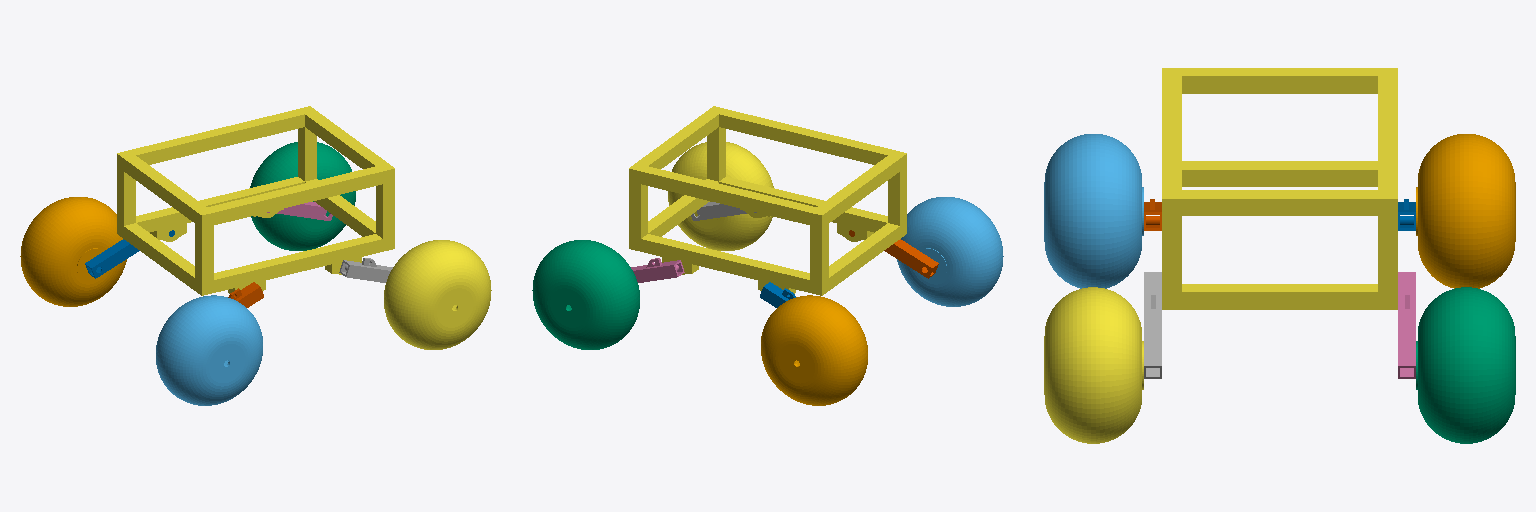
The robot description file, URDF, robot "TARS_V2":
<?xml version="1.0"?>
<!-- created with Phobos 0.8 -->
  <robot name="TARS_V2">

    <link name="link_camera_back">
    </link>

    <link name="link_camera_depth">
    </link>

    <link name="link_camera_front">
    </link>

    <link name="link_chassis">
      <inertial>
        <origin xyz="0 0 0.19608" rpy="0 0 0"/>
        <mass value="30.0"/>
        <inertia ixx="0.79449" ixy="0" ixz="0" iyy="1.21074" iyz="0" izz="1.56825"/>
      </inertial>
      <visual name="visual_chassis">
        <origin xyz="0 0 0" rpy="0 0 0"/>
        <geometry>
          <mesh filename="..\meshes\stl\TARS.V2.Chassis.stl" scale="0.001 0.001 0.001"/>
        </geometry>
      </visual>
      <collision name="collision_chassis">
        <origin xyz="0 0 0.19608" rpy="0 0 0"/>
        <geometry>
          <box size="0.63 0.48 0.29562"/>
        </geometry>
      </collision>
    </link>

    <link name="link_suspension_backleft">
      <inertial>
        <origin xyz="-0.12007 -0.01981 -0.04013" rpy="0 0 0"/>
        <mass value="0.75"/>
        <inertia ixx="0.00147" ixy="0" ixz="0" iyy="0.00598" iyz="0" izz="0.00469"/>
      </inertial>
      <visual name="visual_suspension_backleft">
        <origin xyz="0 0 0" rpy="0 0 0"/>
        <geometry>
          <mesh filename="..\meshes\stl\TARS.V2.Suspension.004.stl" scale="0.001 0.001 0.001"/>
        </geometry>
      </visual>
      <collision name="collision_suspension_backleft">
        <origin xyz="-0.12007 -0.01981 -0.04013" rpy="0 0 0"/>
        <geometry>
          <box size="0.27135 0.0381 0.14844"/>
        </geometry>
      </collision>
    </link>

    <link name="link_suspension_backright">
      <inertial>
        <origin xyz="-0.12007 0.02019 -0.04013" rpy="0 0 0"/>
        <mass value="0.75"/>
        <inertia ixx="0.00147" ixy="0" ixz="0" iyy="0.00598" iyz="0" izz="0.00469"/>
      </inertial>
      <visual name="visual_suspension_backright">
        <origin xyz="0 0 0" rpy="0 0 0"/>
        <geometry>
          <mesh filename="..\meshes\stl\TARS.V2.Suspension.003.stl" scale="0.001 0.001 0.001"/>
        </geometry>
      </visual>
      <collision name="collision_suspension_backright">
        <origin xyz="-0.12007 0.02019 -0.04013" rpy="0 0 0"/>
        <geometry>
          <box size="0.27135 0.0381 0.14844"/>
        </geometry>
      </collision>
    </link>

    <link name="link_suspension_frontleft">
      <inertial>
        <origin xyz="0.12007 -0.02019 -0.04013" rpy="0 0 0"/>
        <mass value="0.75"/>
        <inertia ixx="0.00147" ixy="0" ixz="0" iyy="0.00598" iyz="0" izz="0.00469"/>
      </inertial>
      <visual name="visual_suspension_frontleft">
        <origin xyz="0 0 0" rpy="0 0 0"/>
        <geometry>
          <mesh filename="..\meshes\stl\TARS.V2.Suspension.001.stl" scale="0.001 0.001 0.001"/>
        </geometry>
      </visual>
      <collision name="collision_suspension_frontleft">
        <origin xyz="0.12007 -0.02019 -0.04013" rpy="0 0 0"/>
        <geometry>
          <box size="0.27135 0.0381 0.14844"/>
        </geometry>
      </collision>
    </link>

    <link name="link_suspension_frontright">
      <inertial>
        <origin xyz="0.12007 0.01981 -0.04013" rpy="0 0 0"/>
        <mass value="0.75"/>
        <inertia ixx="0.00147" ixy="0" ixz="0" iyy="0.00598" iyz="0" izz="0.00469"/>
      </inertial>
      <visual name="visual_suspension_frontright">
        <origin xyz="0 0 0" rpy="0 0 0"/>
        <geometry>
          <mesh filename="..\meshes\stl\TARS.V2.Suspension.002.stl" scale="0.001 0.001 0.001"/>
        </geometry>
      </visual>
      <collision name="collision_suspension_frontright">
        <origin xyz="0.12007 0.01981 -0.04013" rpy="0 0 0"/>
        <geometry>
          <box size="0.27134 0.0381 0.14845"/>
        </geometry>
      </collision>
    </link>

    <link name="link_wheel_backleft">
      <inertial>
        <origin xyz="0 0.10244 0" rpy="0 0 0"/>
        <mass value="1.5"/>
        <inertia ixx="0.01534" ixy="0" ixz="0" iyy="0.01534" iyz="0" izz="0.01534"/>
      </inertial>
      <visual name="visual_wheel_backleft">
        <origin xyz="0 0 0" rpy="0 0 0"/>
        <geometry>
          <mesh filename="..\meshes\stl\TARS.V2.Wheels.004.stl" scale="0.001 0.001 0.001"/>
        </geometry>
      </visual>
      <collision name="collision_wheel_backleft">
        <origin xyz="0 0.10244 0" rpy="0 0 0"/>
        <geometry>
          <sphere radius="0.15989"/>
        </geometry>
      </collision>
    </link>

    <link name="link_wheel_backright">
      <inertial>
        <origin xyz="0 -0.10254 0" rpy="0 0 0"/>
        <mass value="1.5"/>
        <inertia ixx="0.01534" ixy="0" ixz="0" iyy="0.01534" iyz="0" izz="0.01534"/>
      </inertial>
      <visual name="visual_wheel_backright">
        <origin xyz="0 0 0" rpy="0 0 0"/>
        <geometry>
          <mesh filename="..\meshes\stl\TARS.V2.Wheels.003.stl" scale="0.001 0.001 0.001"/>
        </geometry>
      </visual>
      <collision name="collision_wheel_backright">
        <origin xyz="0 -0.10254 0" rpy="0 0 0"/>
        <geometry>
          <sphere radius="0.15989"/>
        </geometry>
      </collision>
    </link>

    <link name="link_wheel_frontleft">
      <inertial>
        <origin xyz="0 0.10244 0" rpy="0 0 0"/>
        <mass value="1.5"/>
        <inertia ixx="0.01534" ixy="0" ixz="0" iyy="0.01534" iyz="0" izz="0.01534"/>
      </inertial>
      <visual name="visual_wheel_frontleft">
        <origin xyz="0 0 0" rpy="0 0 0"/>
        <geometry>
          <mesh filename="..\meshes\stl\TARS.V2.Wheel.001.stl" scale="0.001 0.001 0.001"/>
        </geometry>
      </visual>
      <collision name="collision_wheel_frontleft">
        <origin xyz="0 0.10244 0" rpy="0 0 0"/>
        <geometry>
          <sphere radius="0.15989"/>
        </geometry>
      </collision>
    </link>

    <link name="link_wheel_frontright">
      <inertial>
        <origin xyz="0 -0.10264 0" rpy="0 0 0"/>
        <mass value="1.5"/>
        <inertia ixx="0.01534" ixy="0" ixz="0" iyy="0.01534" iyz="0" izz="0.01534"/>
      </inertial>
      <visual name="visual_wheel_frontright">
        <origin xyz="0 0 0" rpy="0 0 0"/>
        <geometry>
          <mesh filename="..\meshes\stl\TARS.V2.Wheels.002.stl" scale="0.001 0.001 0.001"/>
        </geometry>
      </visual>
      <collision name="collision_wheel_frontright">
        <origin xyz="0 -0.10264 0" rpy="0 0 0"/>
        <geometry>
          <sphere radius="0.15989"/>
        </geometry>
      </collision>
    </link>

    <joint name="link_camera_back" type="fixed">
      <origin xyz="-0.315 1e-05 0.3439" rpy="3.14159 1.5708 0"/>
      <parent link="link_chassis"/>
      <child link="link_camera_back"/>
    </joint>

    <joint name="link_camera_depth" type="fixed">
      <origin xyz="0.315 1e-05 0.3439" rpy="0 1.5708 0"/>
      <parent link="link_chassis"/>
      <child link="link_camera_depth"/>
    </joint>

    <joint name="link_camera_front" type="fixed">
      <origin xyz="0.315 -0.11999 0.3439" rpy="0 1.5708 0"/>
      <parent link="link_chassis"/>
      <child link="link_camera_front"/>
    </joint>

    <joint name="link_suspension_backleft" type="fixed">
      <origin xyz="-0.15754 0.25888 0.07402" rpy="0 0 0"/>
      <parent link="link_chassis"/>
      <child link="link_suspension_backleft"/>
    </joint>

    <joint name="link_suspension_backright" type="fixed">
      <origin xyz="-0.15754 -0.25922 0.07402" rpy="0 0 0"/>
      <parent link="link_chassis"/>
      <child link="link_suspension_backright"/>
    </joint>

    <joint name="link_suspension_frontleft" type="fixed">
      <origin xyz="0.15754 0.25925 0.07402" rpy="0 0 0"/>
      <parent link="link_chassis"/>
      <child link="link_suspension_frontleft"/>
    </joint>

    <joint name="link_suspension_frontright" type="fixed">
      <origin xyz="0.15755 -0.25885 0.07403" rpy="0 0 0"/>
      <parent link="link_chassis"/>
      <child link="link_suspension_frontright"/>
    </joint>

    <joint name="link_wheel_backleft" type="floating">
      <origin xyz="-0.21346 0.01924 -0.08012" rpy="0 0 0"/>
      <parent link="link_suspension_backleft"/>
      <child link="link_wheel_backleft"/>
    </joint>

    <joint name="link_wheel_backright" type="floating">
      <origin xyz="-0.21346 -0.01886 -0.08012" rpy="0 0 0"/>
      <parent link="link_suspension_backright"/>
      <child link="link_wheel_backright"/>
    </joint>

    <joint name="link_wheel_frontleft" type="floating">
      <origin xyz="0.21346 0.01886 -0.08012" rpy="0 0 0"/>
      <parent link="link_suspension_frontleft"/>
      <child link="link_wheel_frontleft"/>
    </joint>

    <joint name="link_wheel_frontright" type="floating">
      <origin xyz="0.21345 -0.01924 -0.08014" rpy="0 0 0"/>
      <parent link="link_suspension_frontright"/>
      <child link="link_wheel_frontright"/>
    </joint>

  </robot>

--- Facts derived from the render (not from the file) ---
3 views of the same robot in one strip: view 1: azimuth 30°, elevation 25°; view 2: azimuth 150°, elevation 25°; view 3: azimuth 270°, elevation 25° (orthographic).
Robot: TARS_V2 — 12 links, 11 joints (7 fixed, 4 floating); root link link_chassis; default pose: all joints at 0.
Links seen in each view (by area): view 1: link_chassis, link_wheel_frontright, link_wheel_backright, link_wheel_backleft, link_wheel_frontleft, link_suspension_backleft, link_suspension_frontright, link_suspension_frontleft; view 2: link_chassis, link_wheel_frontleft, link_wheel_backleft, link_wheel_backright, link_wheel_frontright, link_suspension_backright, link_suspension_frontleft, link_suspension_frontright, link_suspension_backleft; view 3: link_chassis, link_wheel_frontleft, link_wheel_frontright, link_wheel_backright, link_wheel_backleft, link_suspension_frontleft, link_suspension_frontright.
Link boxes in pixels (box(x1,y1,x2,y2)): link_chassis: box(117, 106, 394, 295); link_wheel_frontright: box(384, 240, 491, 349); link_wheel_backright: box(156, 295, 262, 405); link_wheel_backleft: box(20, 197, 126, 306); link_wheel_frontleft: box(250, 142, 355, 250); link_suspension_backleft: box(85, 230, 174, 278); link_suspension_frontright: box(339, 258, 392, 282); link_suspension_frontleft: box(267, 202, 332, 220); link_chassis: box(629, 106, 906, 295); link_wheel_frontleft: box(532, 240, 639, 349); link_wheel_backleft: box(761, 295, 867, 405); link_wheel_backright: box(897, 197, 1003, 306); link_wheel_frontright: box(668, 142, 773, 250); link_suspension_backright: box(849, 230, 938, 278); link_suspension_frontleft: box(631, 258, 684, 282); link_suspension_frontright: box(691, 202, 756, 220); link_suspension_backleft: box(760, 282, 795, 307); link_chassis: box(1162, 68, 1397, 309); link_wheel_frontleft: box(1416, 287, 1515, 443); link_wheel_frontright: box(1044, 287, 1143, 443); link_wheel_backright: box(1044, 134, 1143, 288); link_wheel_backleft: box(1416, 134, 1515, 288); link_suspension_frontleft: box(1398, 272, 1415, 378); link_suspension_frontright: box(1144, 272, 1161, 378).
Bounding box of the posed robot: 1.06 × 0.9613 × 0.5098 m (x, y, z).
Meshes: 9 distinct files referenced, 9 mesh visuals loaded (9 binary STL).